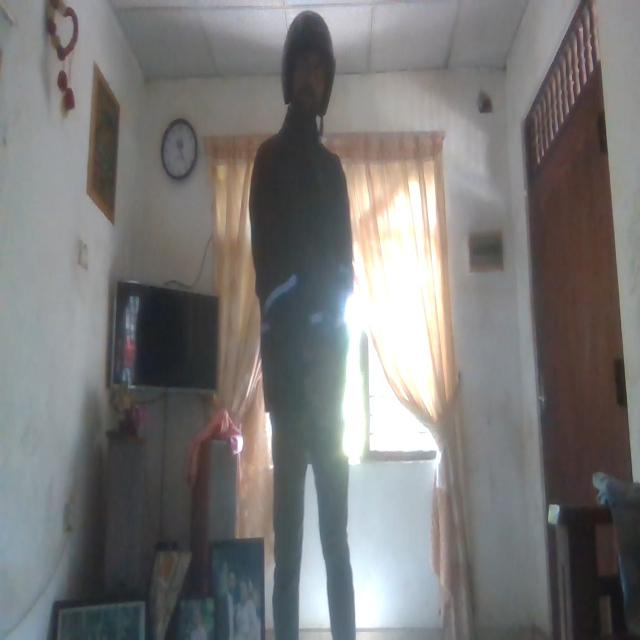Helmet_Wearer: (279, 7, 337, 142)
Jacket_Wearer: (248, 127, 362, 463)
Person: (243, 18, 367, 640)
